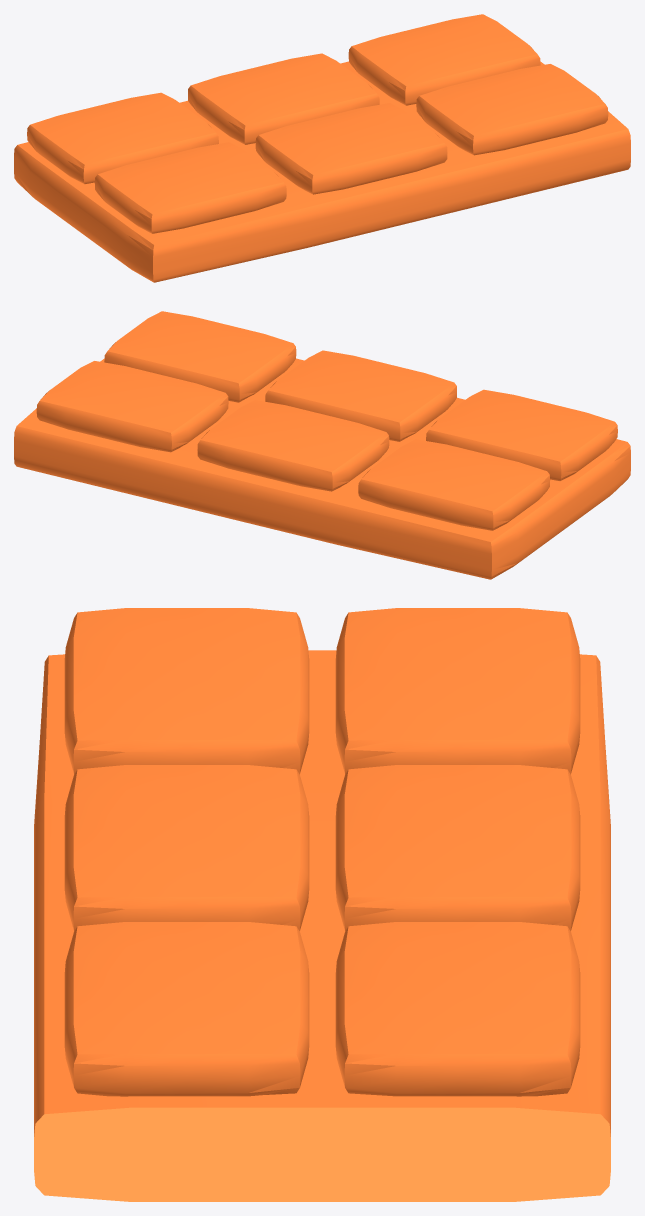
3 renders of one model, top to bottom at view 1: azimuth 30°, elevation 25°; view 2: azimuth 150°, elevation 25°; view 3: azimuth 270°, elevation 25°, orthographic. The views are drawn at different scales.
Parts seen in each view (by area): view 1: Choco-left; view 2: Choco-left; view 3: Choco-left.
Boxes of the visible parts, box(x1,y1,x2,y2) form: Choco-left: box(14, 14, 630, 282); Choco-left: box(14, 311, 630, 579); Choco-left: box(34, 608, 610, 1201).
Bounding box in the file's own units: 0.0423 × 0.00594 × 0.022.
